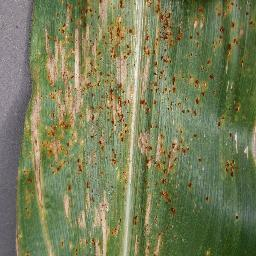Gray_Leaf_Spot: (11, 0, 159, 255), (159, 0, 211, 212), (210, 0, 255, 136), (158, 207, 176, 249), (221, 152, 234, 181), (223, 131, 237, 150), (170, 229, 184, 242), (234, 213, 249, 224), (243, 144, 250, 163), (187, 252, 211, 256)
